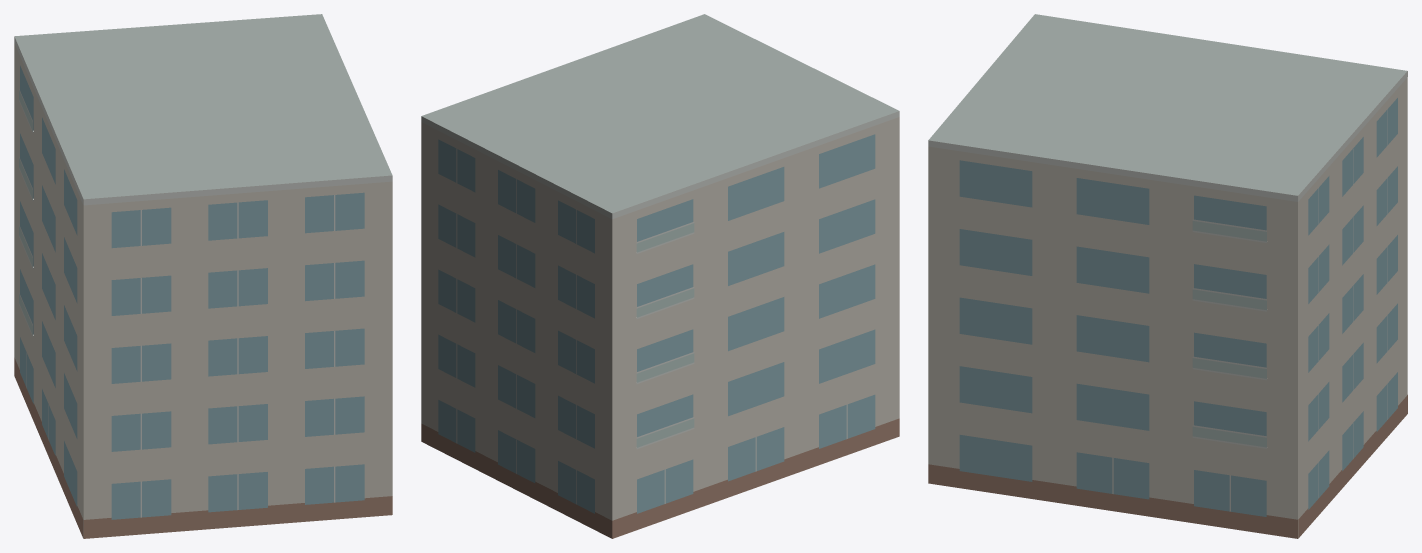
Rendered from survey-upis-32851843.glb.
The picture shows the model from 3 angles, left to right: view 1: azimuth 30°, elevation 25°; view 2: azimuth 150°, elevation 25°; view 3: azimuth 270°, elevation 25°; orthographic projection. The views are drawn at different scales.
Parts seen in each view (by area): view 1: survey-upis-32851843.tmp; view 2: survey-upis-32851843.tmp; view 3: survey-upis-32851843.tmp.
Boxes of the visible parts, left/top/right/bottom form: survey-upis-32851843.tmp: left=14, top=14, right=392, bottom=538; survey-upis-32851843.tmp: left=421, top=14, right=899, bottom=538; survey-upis-32851843.tmp: left=928, top=14, right=1407, bottom=538.
Size of the model in its own units: 15.42 by 13.55 by 17.17.
